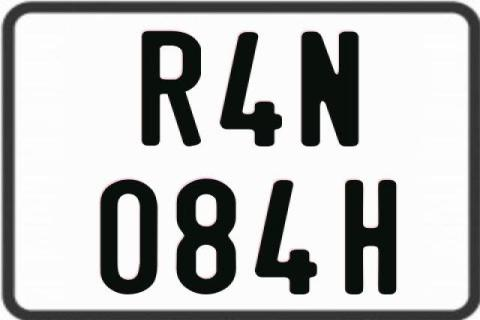0: (252, 179, 318, 297), (220, 32, 285, 151), (97, 179, 161, 297), (174, 178, 235, 298)
H: (344, 179, 400, 295)
N: (298, 29, 362, 147)
R: (140, 30, 201, 148)
